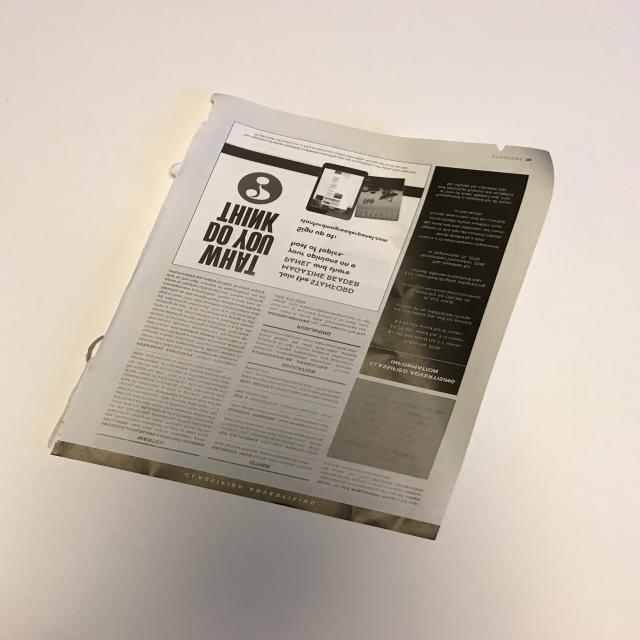paper: (40, 81, 561, 550)
